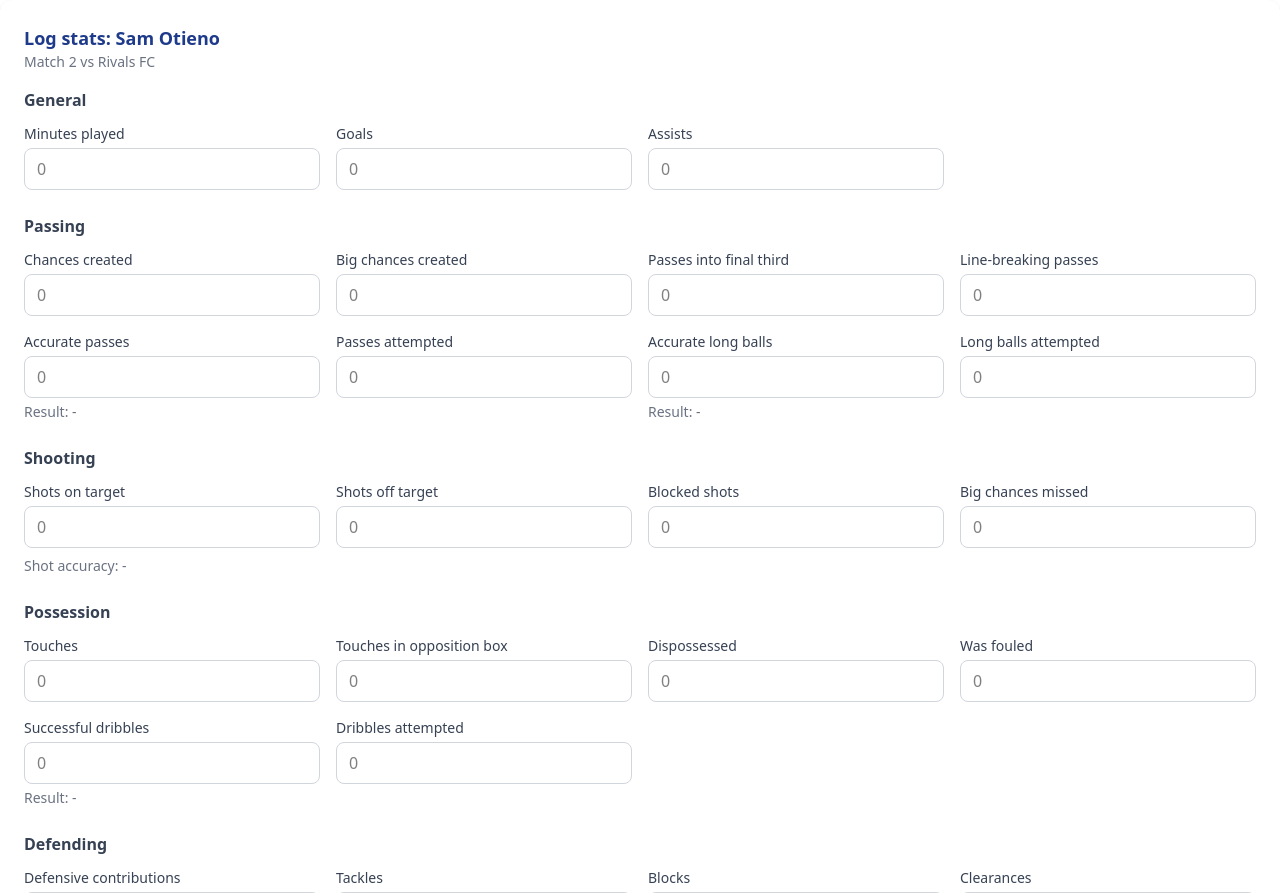
Test case: shows the calculated rating as you type
Type "1" into the number field labelled "Goals" at coordinates (484, 169), box [336,148,632,190]
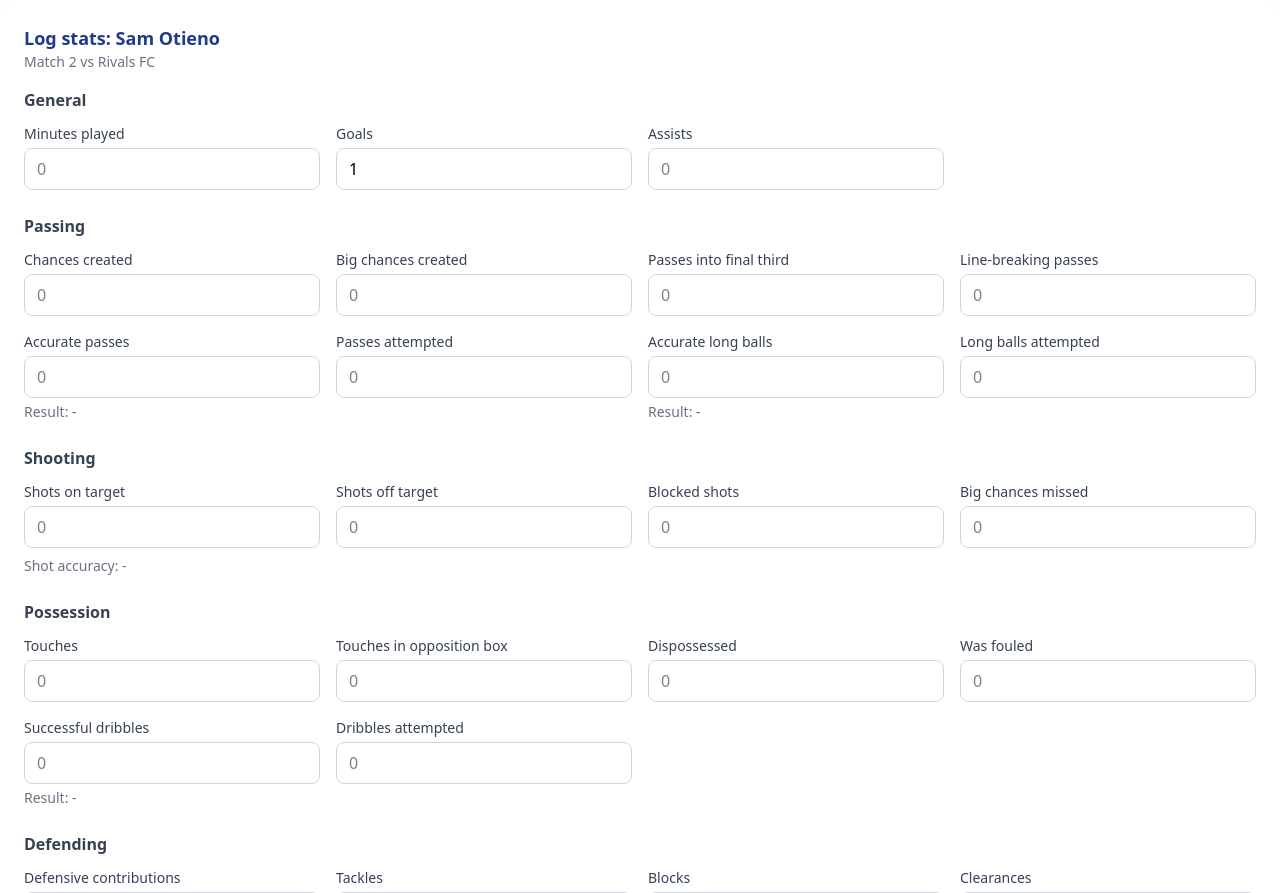
Type "1" into the number field labelled "Assists" at coordinates (796, 169), box [648,148,944,190]
(page scrolled)
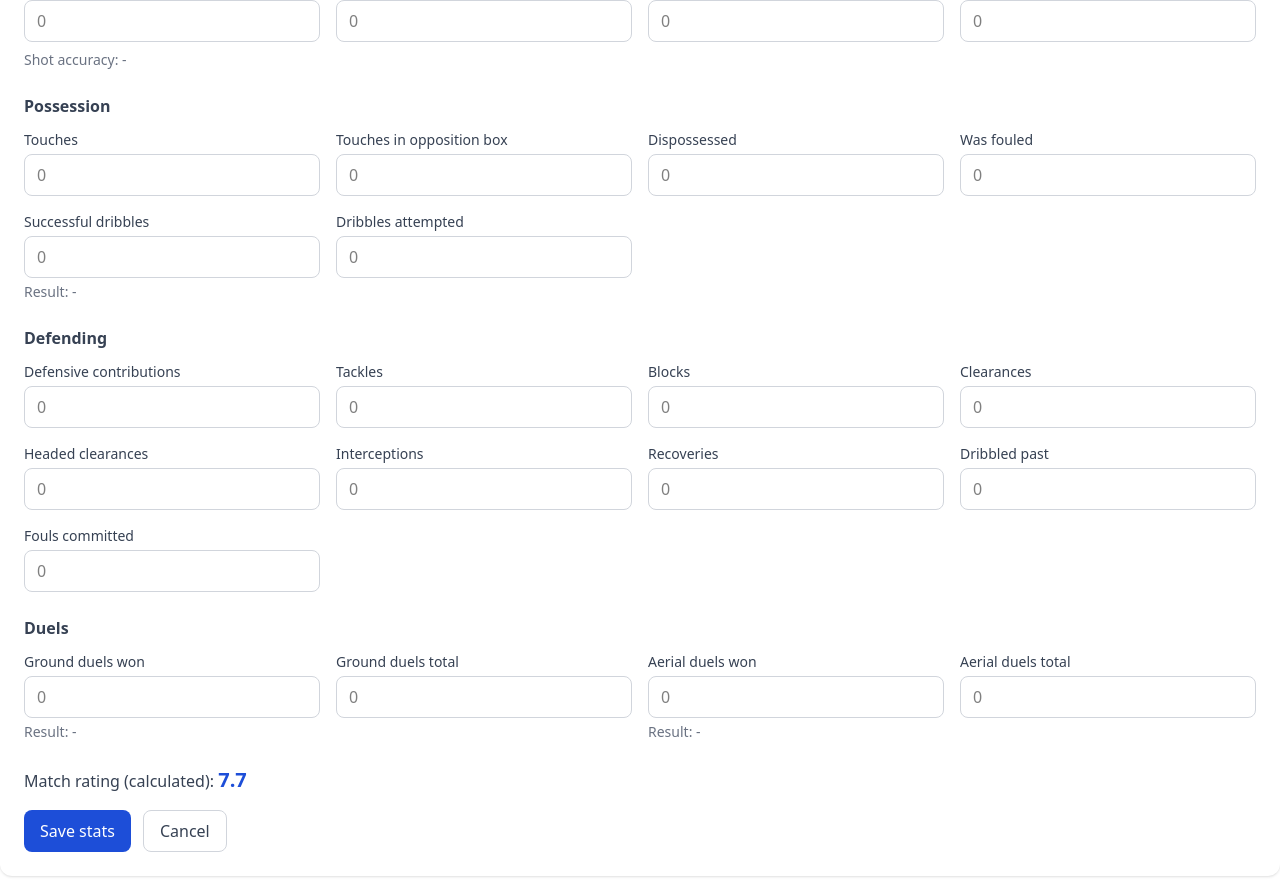
Now the text "7.7" is shown, box [218,766,247,793]
